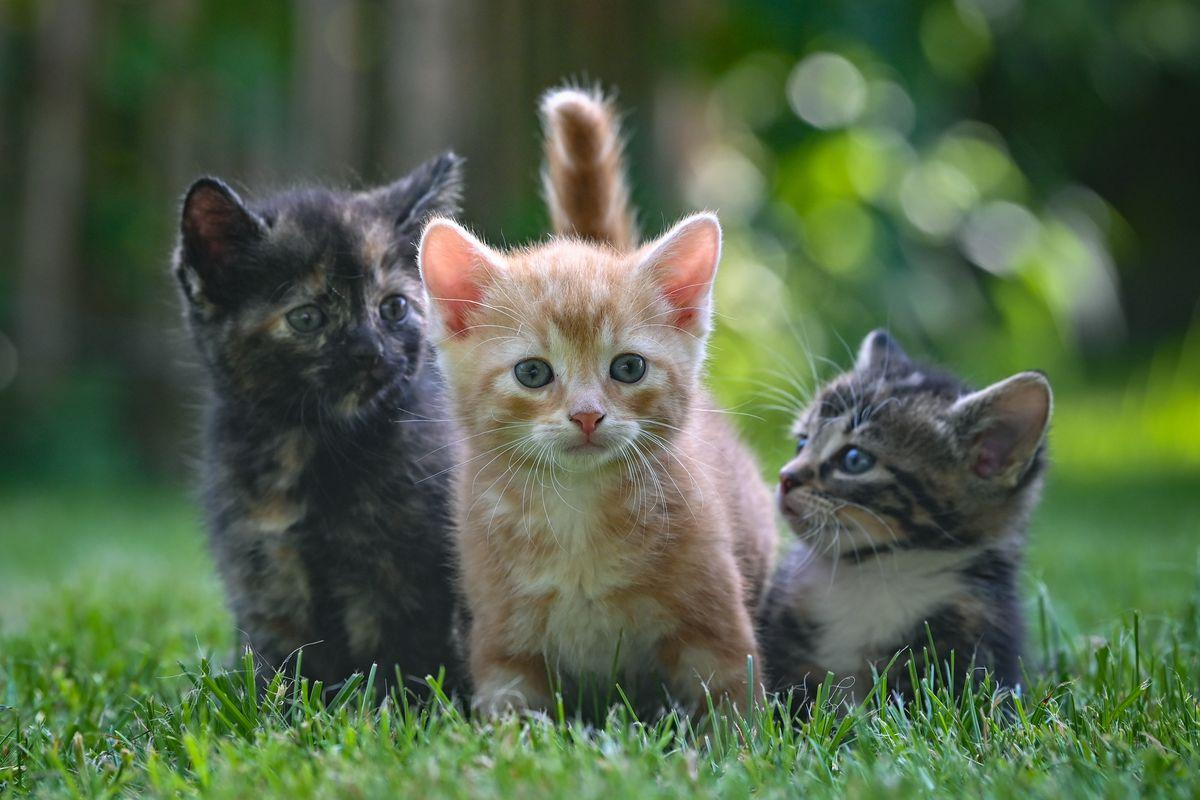Cat: (419, 207, 721, 473), (766, 315, 1062, 561), (184, 146, 438, 414)
